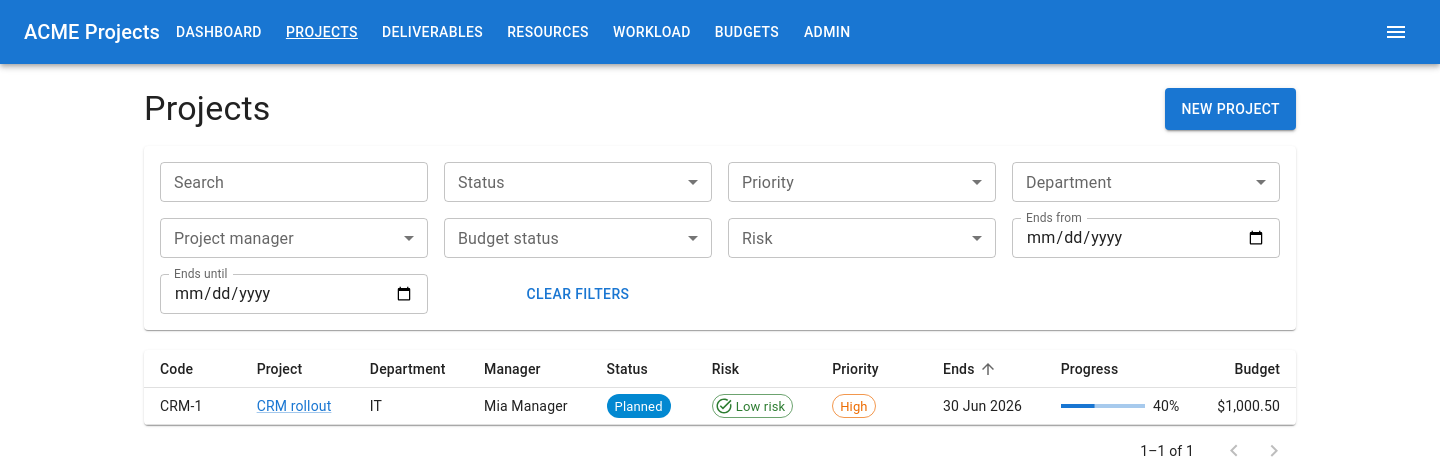
Scenario: project risk › filters by risk on the server
Expected: the text "Low risk" is shown, [736,398,785,414]
Click the 6th dropdown named "Risk".
click(862, 238)  # box [728,218,996,258]
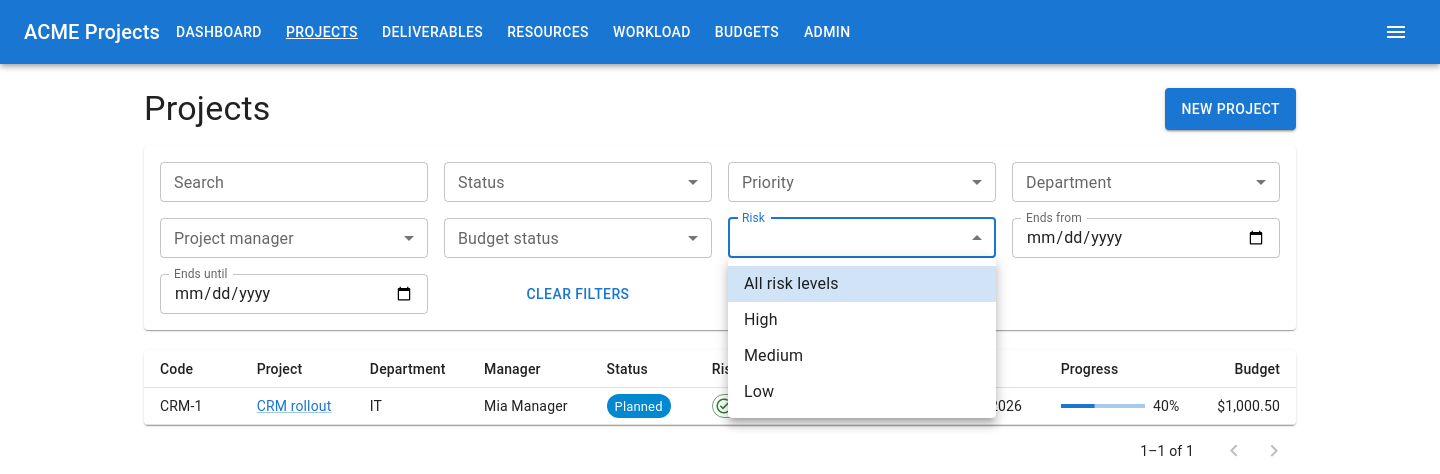
Click the option "High".
click(761, 320)  # box [744,310,778,329]
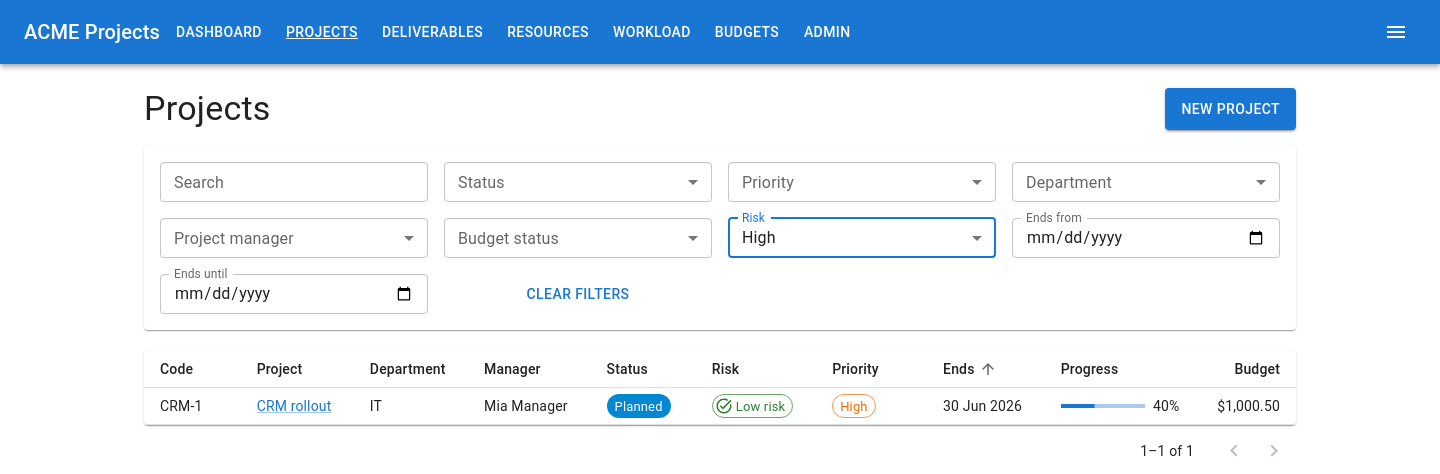
Result: the dropdown named "Risk" reads "High" at [742,228,776,248]
